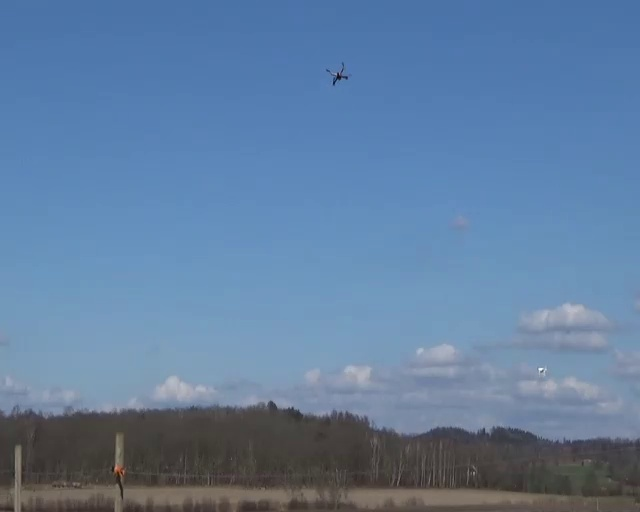DRONE: (325, 62, 350, 86)
